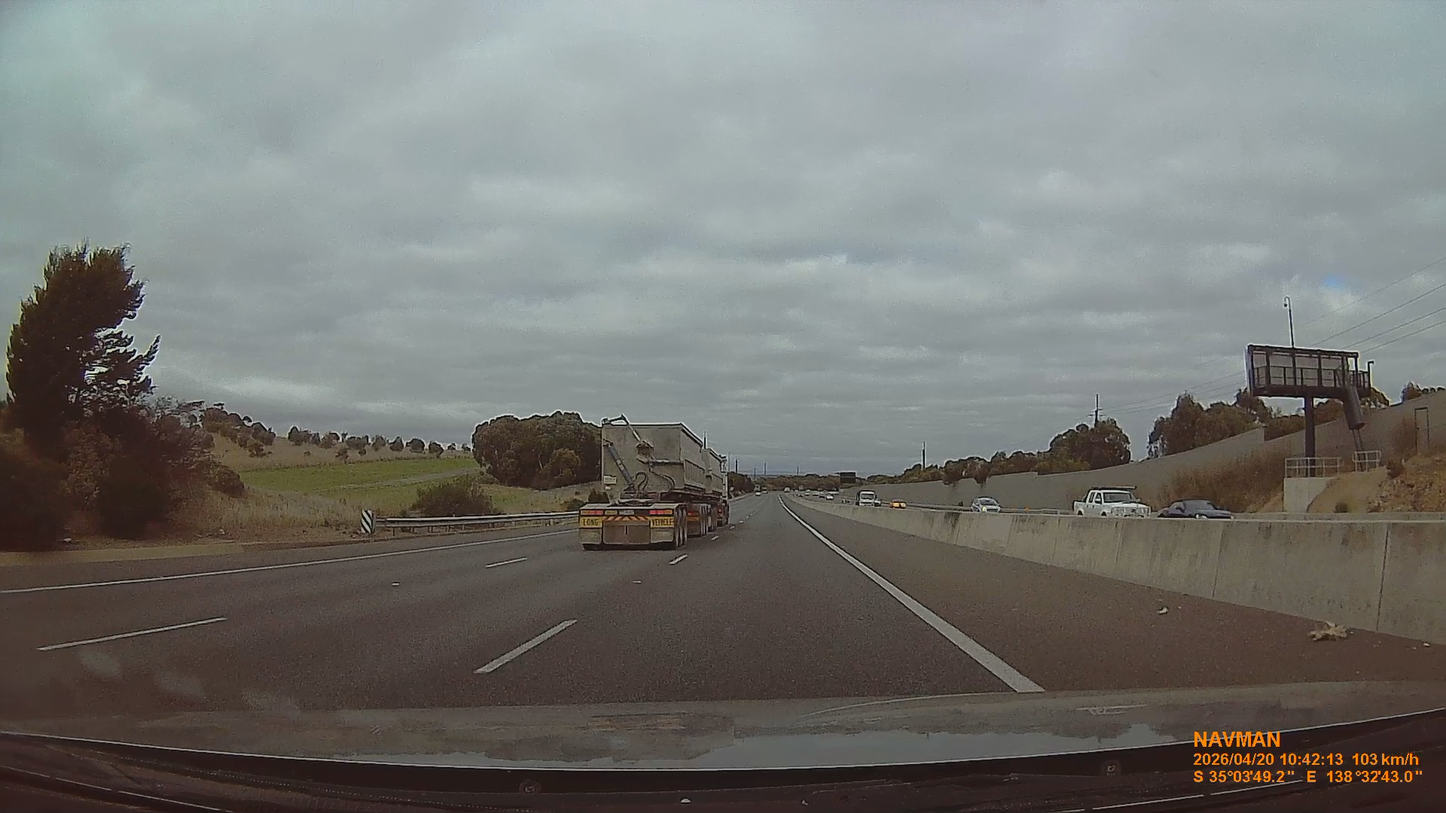fences: (557, 492, 587, 511)
road barriers: (835, 507, 1445, 645), (788, 497, 975, 547), (1376, 521, 1445, 644), (366, 512, 578, 537)
